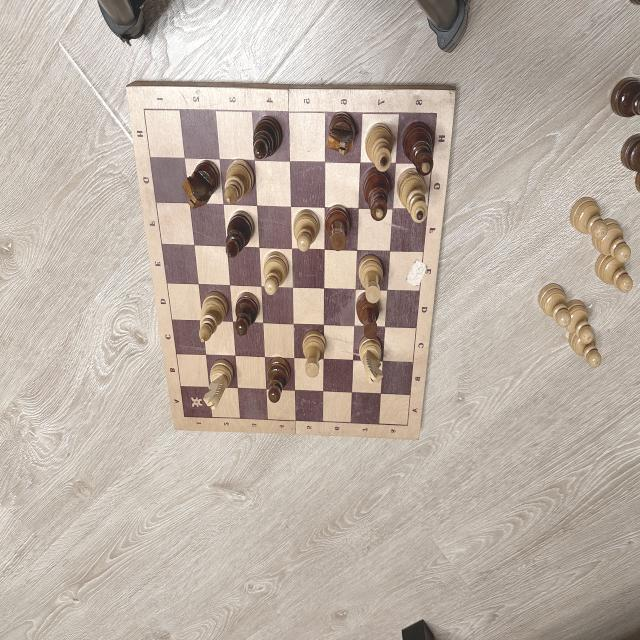chess-table-corners: (140, 105, 148, 114), (434, 108, 439, 118), (182, 412, 188, 420), (405, 422, 410, 428)
